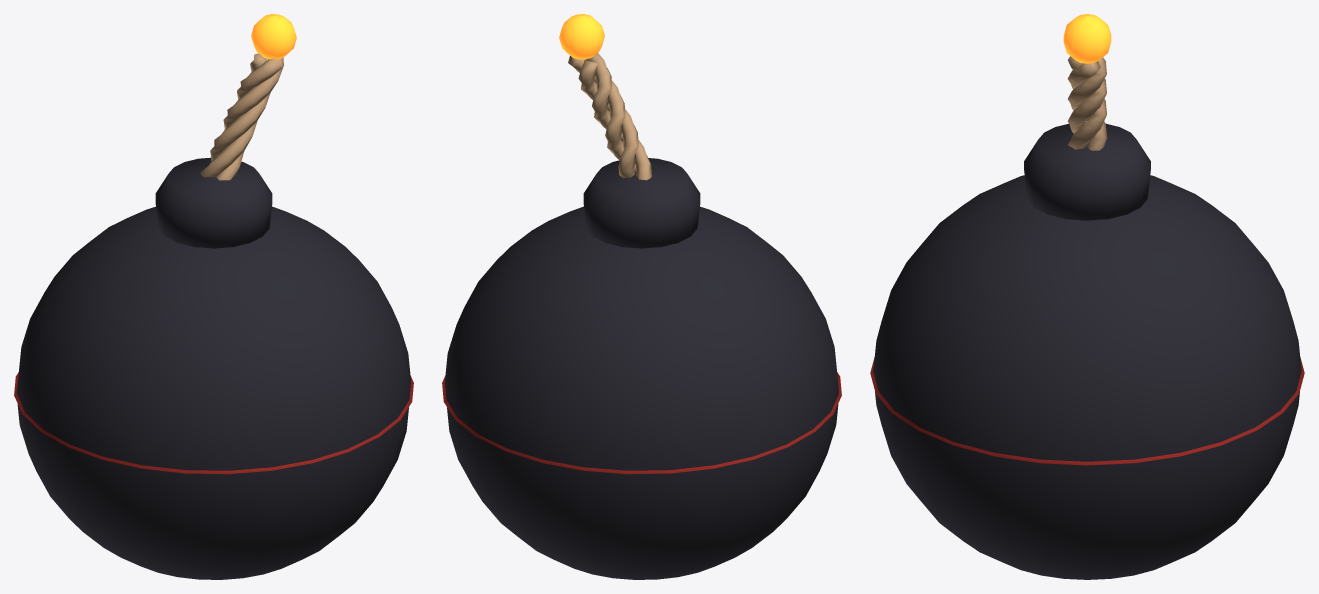
Rendered from special_bomb.glb.
The picture shows the model from 3 angles, left to right: view 1: azimuth 30°, elevation 25°; view 2: azimuth 150°, elevation 25°; view 3: azimuth 270°, elevation 25°; orthographic projection. The views are drawn at different scales.
Parts seen in each view (by area): view 1: special_bomb; view 2: special_bomb; view 3: special_bomb.
Boxes of the visible parts, box(x1,y1,x2,y2) form: special_bomb: box(14, 14, 413, 579); special_bomb: box(442, 14, 841, 579); special_bomb: box(870, 14, 1304, 579).
Bounding box in the file's own units: 0.608 × 0.888 × 0.608.
